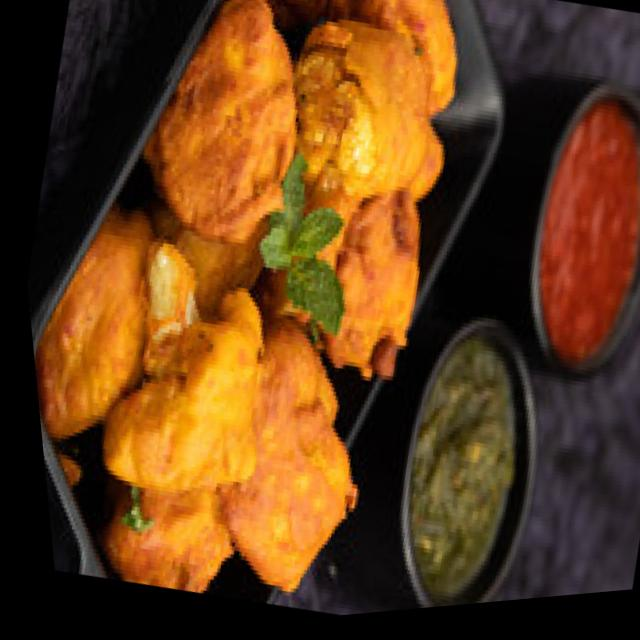CHICKEN FRY: (35, 0, 460, 589)
GREEN CHUTNEY: (406, 340, 519, 599)
RED CHUTNEY: (539, 93, 640, 355)
